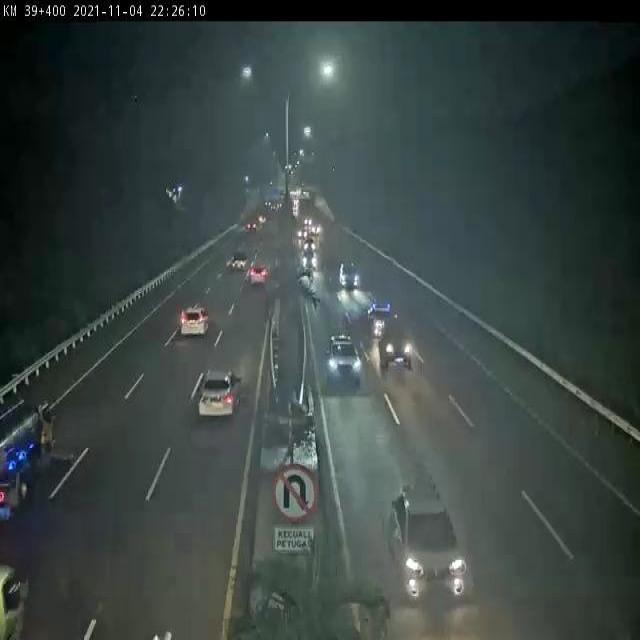car: (184, 374, 249, 438), (587, 581, 640, 640), (164, 293, 222, 339), (232, 271, 278, 312), (217, 254, 250, 294), (410, 497, 440, 539), (325, 335, 356, 364), (379, 335, 402, 364), (335, 257, 354, 283), (355, 293, 376, 315), (238, 222, 258, 238), (298, 220, 310, 244), (297, 240, 314, 256), (411, 488, 413, 489)
truck-l-: (0, 402, 61, 509)
